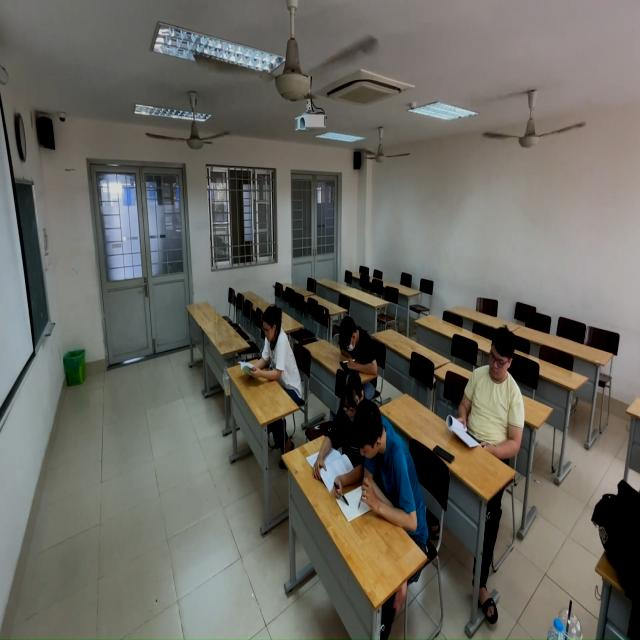read: (446, 325, 528, 463), (334, 398, 409, 527), (304, 370, 369, 474), (237, 304, 300, 397), (336, 313, 379, 380)
